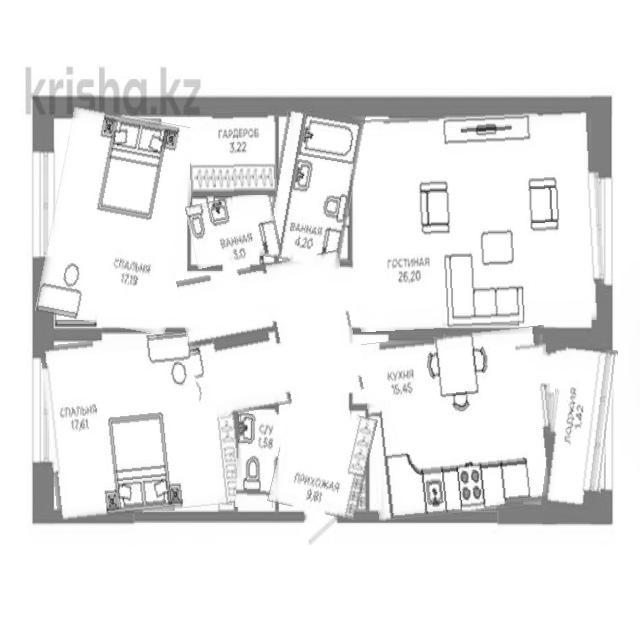balcony: (545, 346, 613, 520)
bathroom: (268, 104, 360, 267), (188, 193, 280, 265), (236, 411, 277, 508)
hallway: (177, 250, 364, 402), (272, 405, 373, 517)
kitchen: (365, 330, 558, 516)
living_room: (352, 111, 604, 329), (45, 332, 243, 516), (44, 110, 196, 331)
other: (190, 105, 277, 196)
